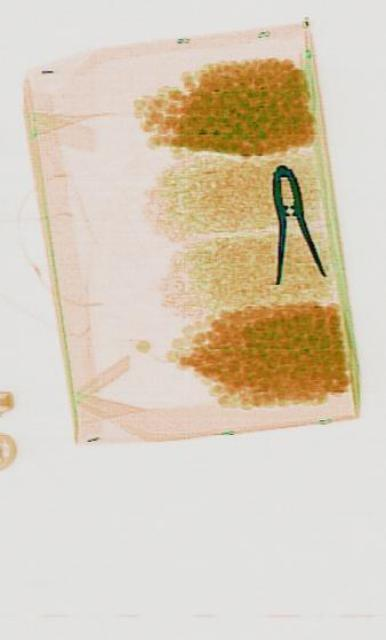Pliers: (259, 156, 324, 290)
